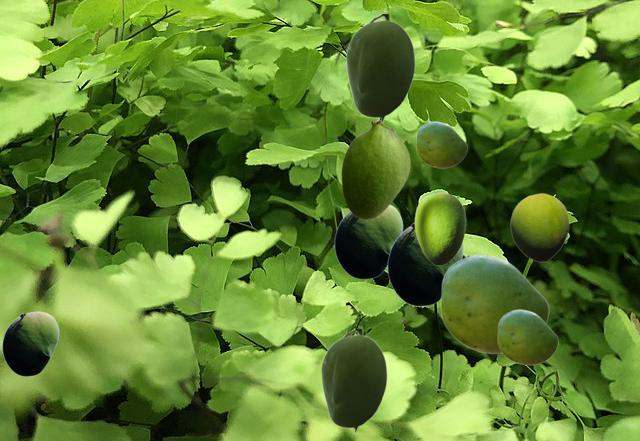green_mango: (440, 254, 548, 353), (345, 14, 414, 121), (320, 329, 386, 432), (341, 119, 409, 218), (387, 222, 463, 305), (334, 204, 402, 278), (510, 193, 568, 261), (414, 192, 465, 264), (2, 311, 58, 375), (497, 309, 557, 364), (416, 121, 466, 167)
